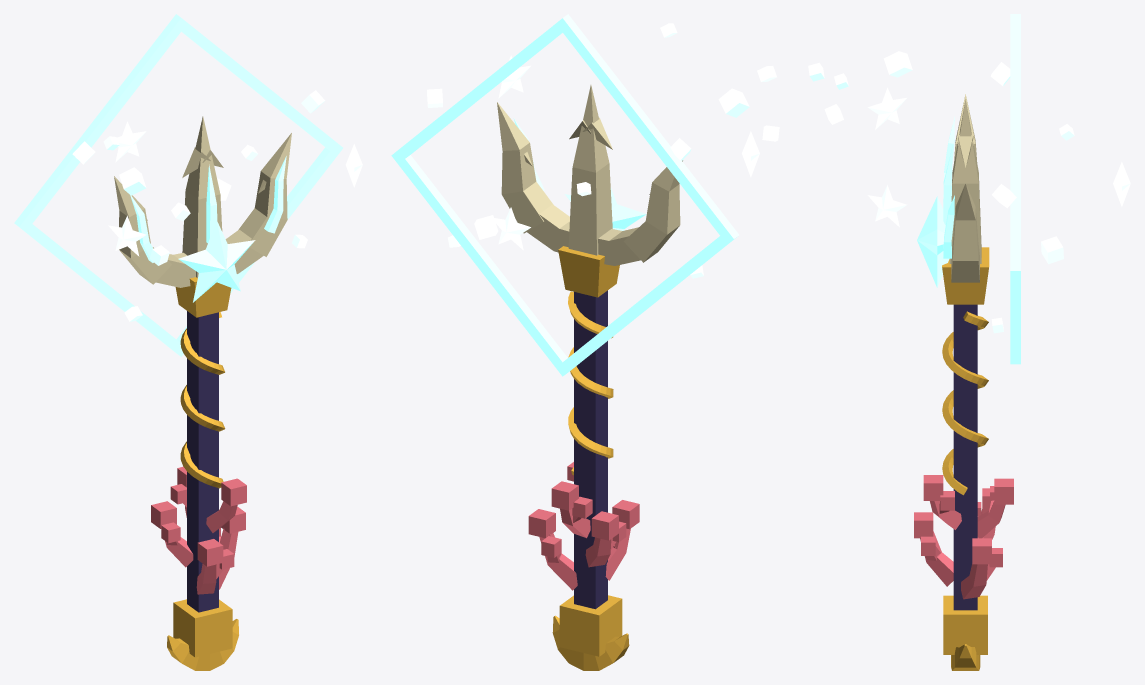
The model's file is R049_starfall_trident.glb.
The picture shows the model from 3 angles, left to right: view 1: azimuth 30°, elevation 25°; view 2: azimuth 150°, elevation 25°; view 3: azimuth 270°, elevation 25°; orthographic projection. The views are drawn at different scales.
Parts seen in each view (by area): view 1: R049_Aura_Halo, R049_Main, R049_Trim, R049_Accent, R049_Gem, R049_Glow, R049_Aura_Cubes, R049_Spin_Shards; view 2: R049_Aura_Halo, R049_Main, R049_Trim, R049_Accent, R049_Gem, R049_Aura_Cubes, R049_Spin_Shards, R049_Glow; view 3: R049_Trim, R049_Accent, R049_Gem, R049_Main, R049_Aura_Halo, R049_Aura_Cubes, R049_Glow, R049_Spin_Shards.
Boxes of the visible parts, left/top/right/bottom form: R049_Aura_Halo: left=14, top=14, right=342, bottom=356; R049_Main: left=114, top=116, right=291, bottom=287; R049_Trim: left=167, top=277, right=238, bottom=670; R049_Accent: left=187, top=311, right=218, bottom=612; R049_Gem: left=151, top=466, right=246, bottom=594; R049_Glow: left=130, top=156, right=286, bottom=302; R049_Aura_Cubes: left=72, top=90, right=325, bottom=321; R049_Spin_Shards: left=108, top=121, right=362, bottom=256; R049_Aura_Halo: left=391, top=14, right=738, bottom=376; R049_Main: left=497, top=85, right=682, bottom=265; R049_Trim: left=552, top=246, right=629, bottom=670; R049_Accent: left=574, top=290, right=607, bottom=609; R049_Gem: left=528, top=462, right=639, bottom=590; R049_Aura_Cubes: left=427, top=23, right=779, bottom=278; R049_Spin_Shards: left=491, top=55, right=759, bottom=250; R049_Glow: left=513, top=118, right=646, bottom=230; R049_Trim: left=942, top=247, right=989, bottom=670; R049_Accent: left=953, top=304, right=977, bottom=610; R049_Gem: left=914, top=475, right=1013, bottom=599; R049_Main: left=949, top=94, right=981, bottom=282; R049_Aura_Halo: left=1010, top=14, right=1020, bottom=364; R049_Aura_Cubes: left=808, top=51, right=1074, bottom=333; R049_Glow: left=917, top=116, right=954, bottom=287; R049_Spin_Shards: left=867, top=87, right=1130, bottom=227.
Bounding box in the file's own units: 1.24 × 2.31 × 1.03.
